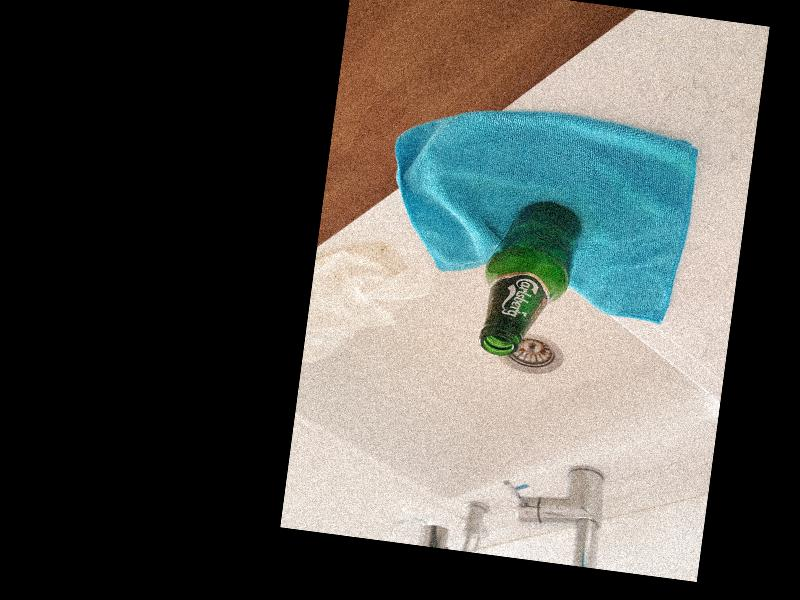Beer: (474, 192, 582, 361)
